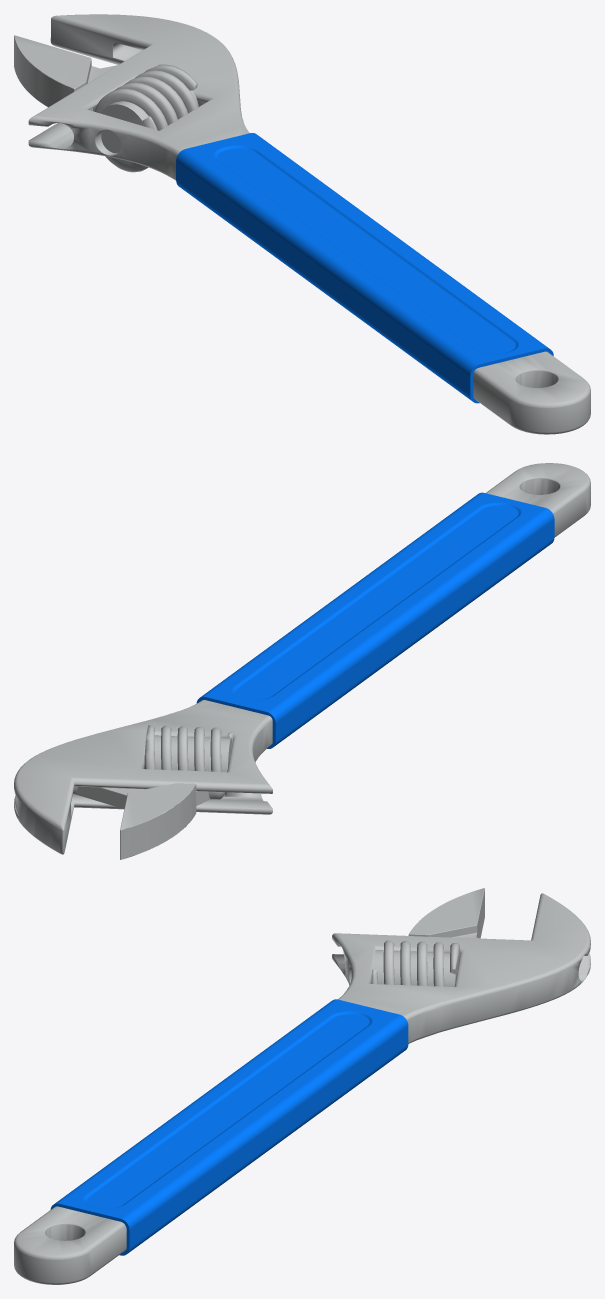
File: 02-Tools_Adjustable Wrench_V02.fbx
The picture shows the model from 3 angles, top to bottom: view 1: azimuth 30°, elevation 25°; view 2: azimuth 150°, elevation 25°; view 3: azimuth 330°, elevation 25°; orthographic projection. The views are drawn at different scales.
Visible parts, largest first — view 1: Adjustable Wrench - V2, Adjustable Wrench, Adjustable Wrench_A, Adjustable Wrench_B; view 2: Adjustable Wrench - V2, Adjustable Wrench, Adjustable Wrench_B, Adjustable Wrench_A; view 3: Adjustable Wrench - V2, Adjustable Wrench, Adjustable Wrench_A, Adjustable Wrench_B.
Boxes of the visible parts, x1=… form: Adjustable Wrench - V2: x1=176, y1=133, x2=553, y2=403; Adjustable Wrench: x1=28, y1=14, x2=590, y2=434; Adjustable Wrench_A: x1=94, y1=64, x2=198, y2=172; Adjustable Wrench_B: x1=14, y1=35, x2=117, y2=111; Adjustable Wrench - V2: x1=196, y1=492, x2=554, y2=748; Adjustable Wrench: x1=14, y1=463, x2=590, y2=854; Adjustable Wrench_B: x1=73, y1=783, x2=224, y2=859; Adjustable Wrench_A: x1=144, y1=725, x2=233, y2=796; Adjustable Wrench - V2: x1=50, y1=999, x2=408, y2=1255; Adjustable Wrench: x1=14, y1=893, x2=590, y2=1284; Adjustable Wrench_A: x1=371, y1=940, x2=460, y2=986; Adjustable Wrench_B: x1=408, y1=888, x2=484, y2=959.
Size of the model in its own units: 9.7 by 3.16 by 39.52.
1 material, 1 textured.
